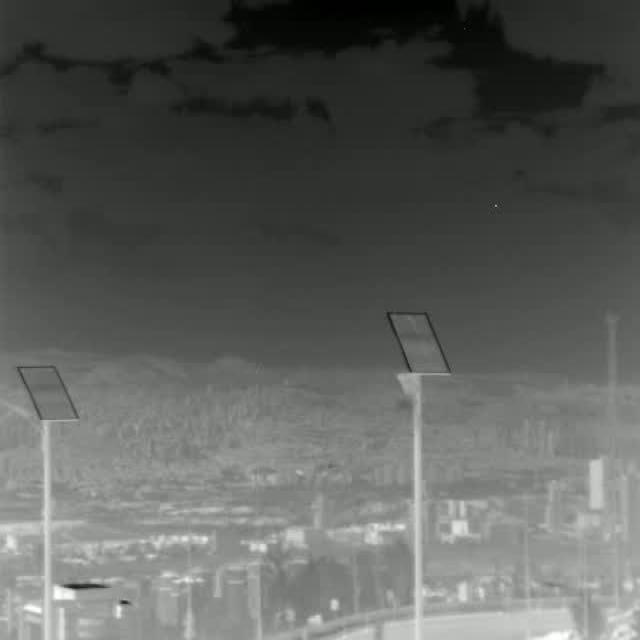Motorcycle: (372, 620, 384, 640)
